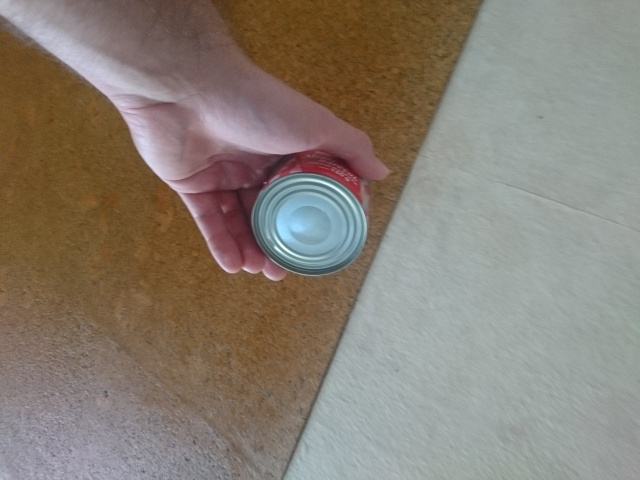Podravka Luncheon Meat 150g: (247, 140, 373, 280)
